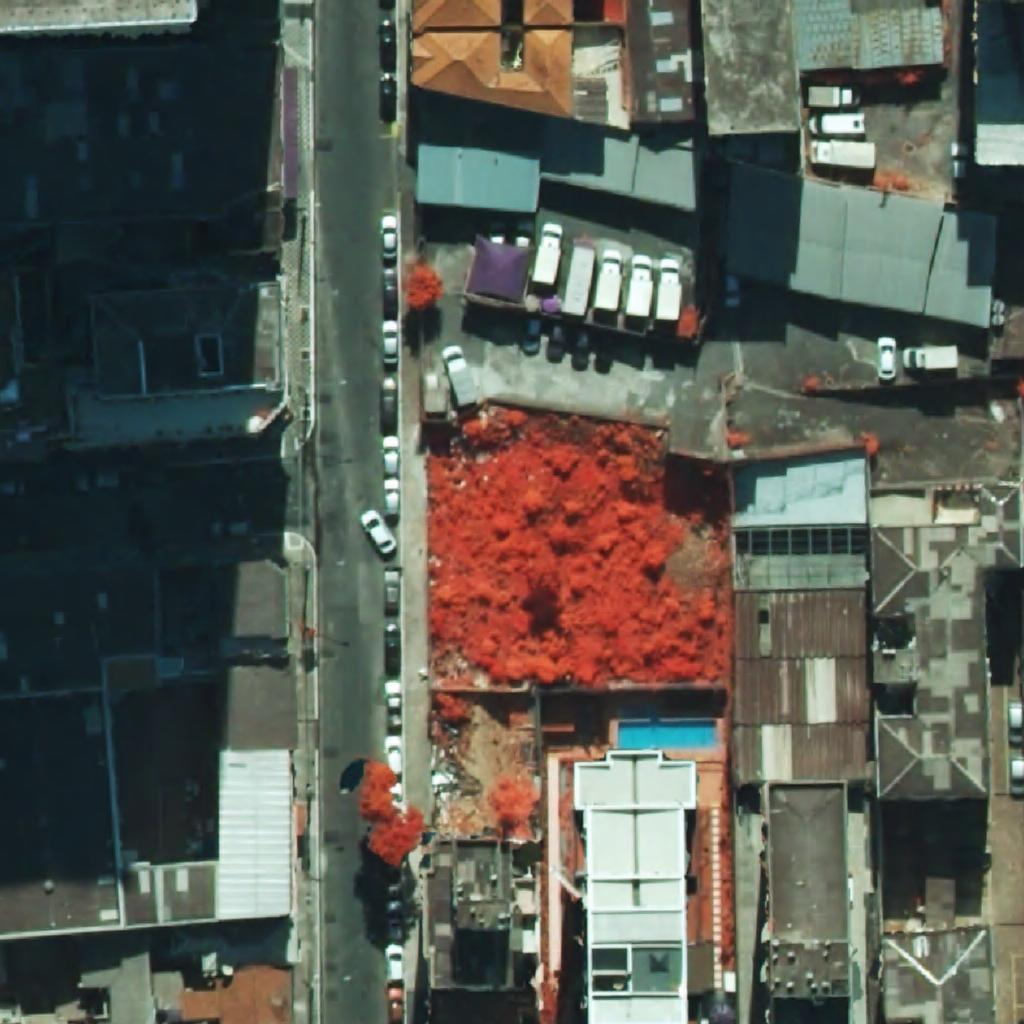pool: (618, 721, 715, 748)
